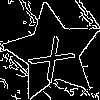X: (27, 27, 84, 84)
